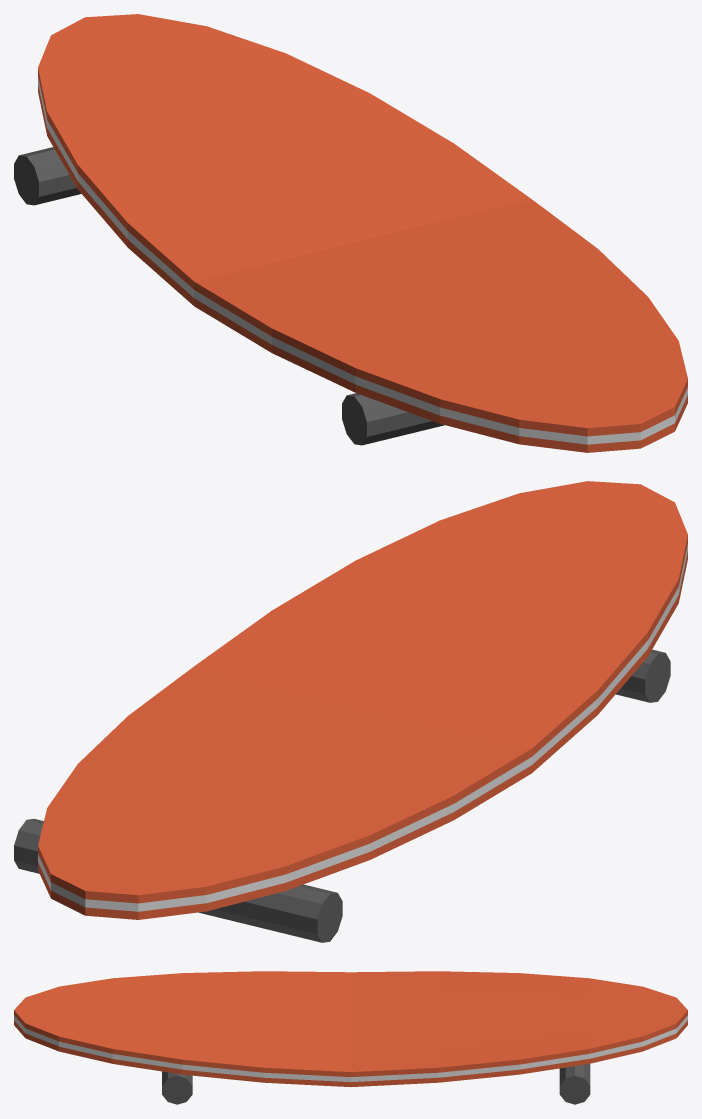
The model's file is Skateboard.fbx.
3 views of the same model, one above another, from view 1: azimuth 30°, elevation 25°; view 2: azimuth 150°, elevation 25°; view 3: azimuth 270°, elevation 25° (orthographic). The views are drawn at different scales.
Visible parts, largest first — view 1: Cylinder.001; view 2: Cylinder.001; view 3: Cylinder.001.
Boxes of the visible parts, x1,y1,x2,y2 form: Cylinder.001: [14, 14, 687, 452]; Cylinder.001: [14, 481, 687, 942]; Cylinder.001: [14, 971, 687, 1104].
Bounding box in the file's own units: 185 × 15.08 × 65.03.
